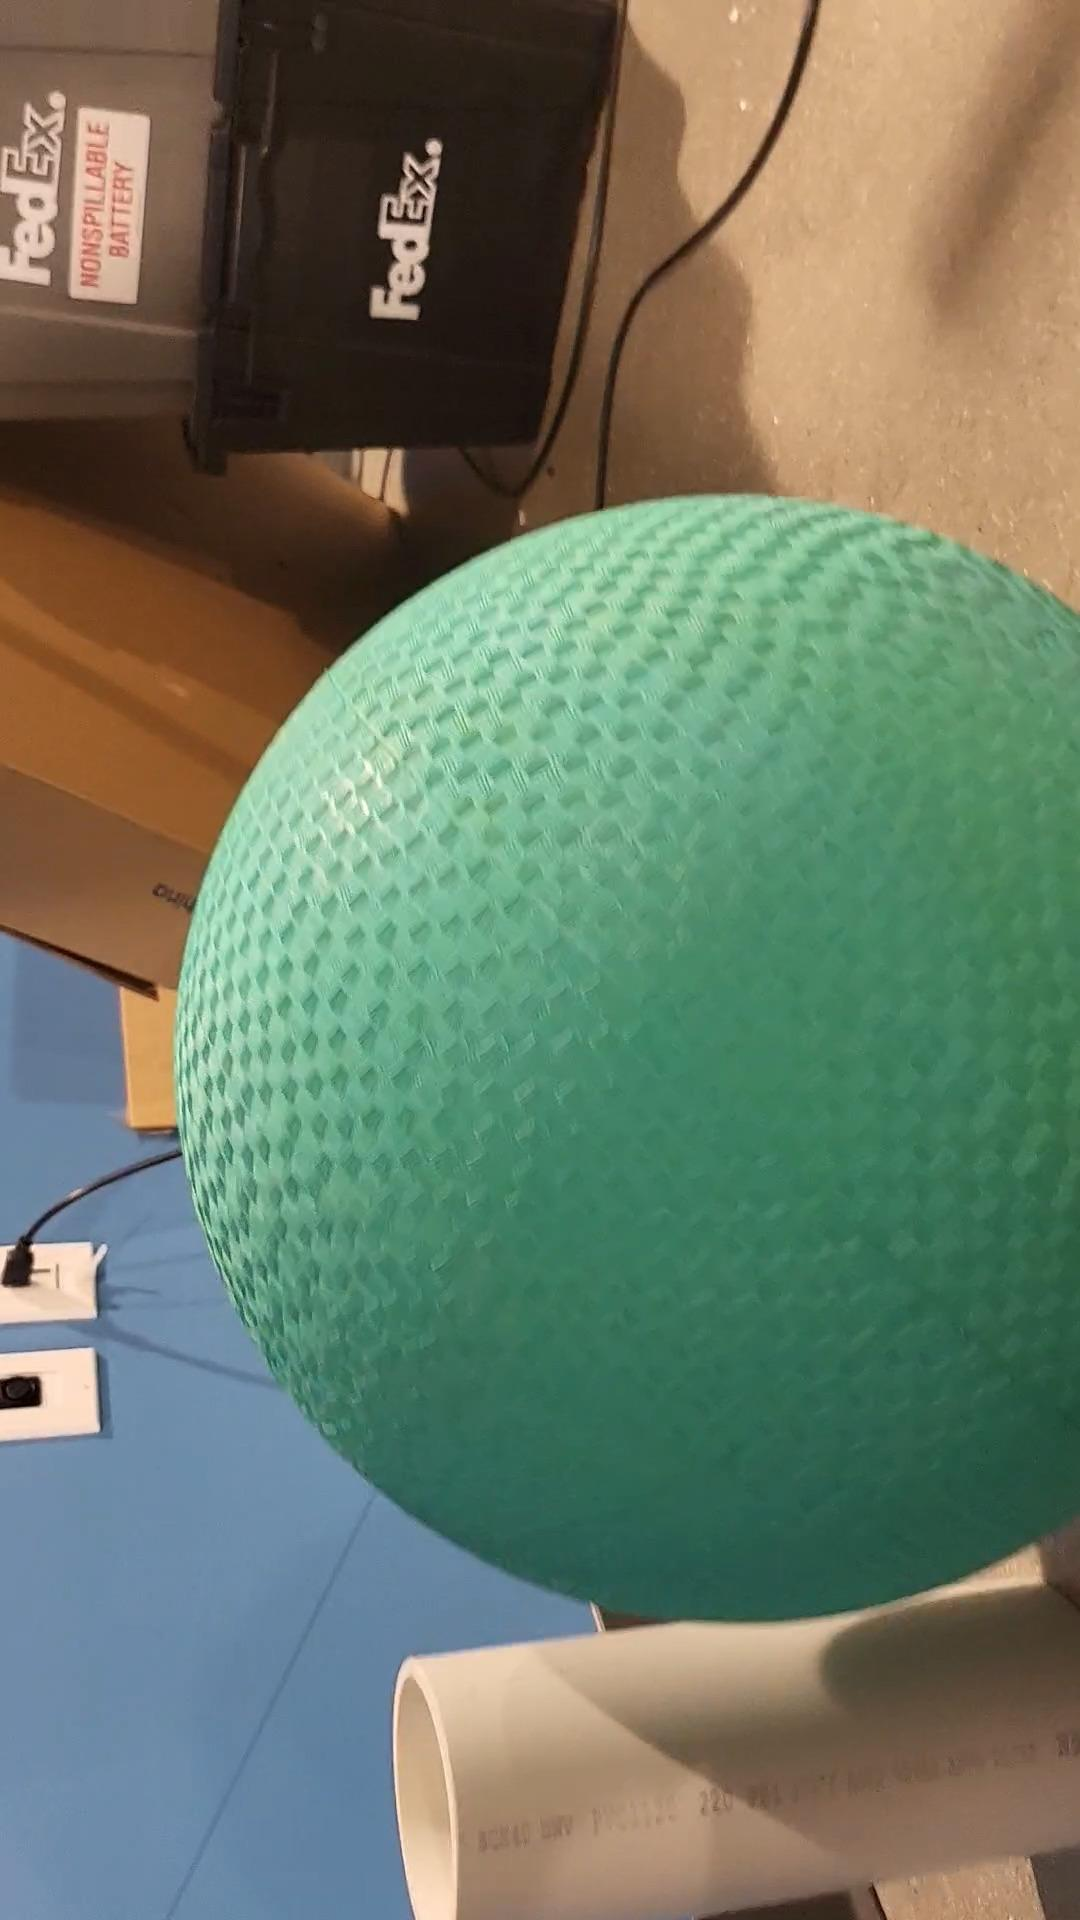algae: (177, 487, 1080, 1634)
coral: (386, 1584, 1080, 1920)
